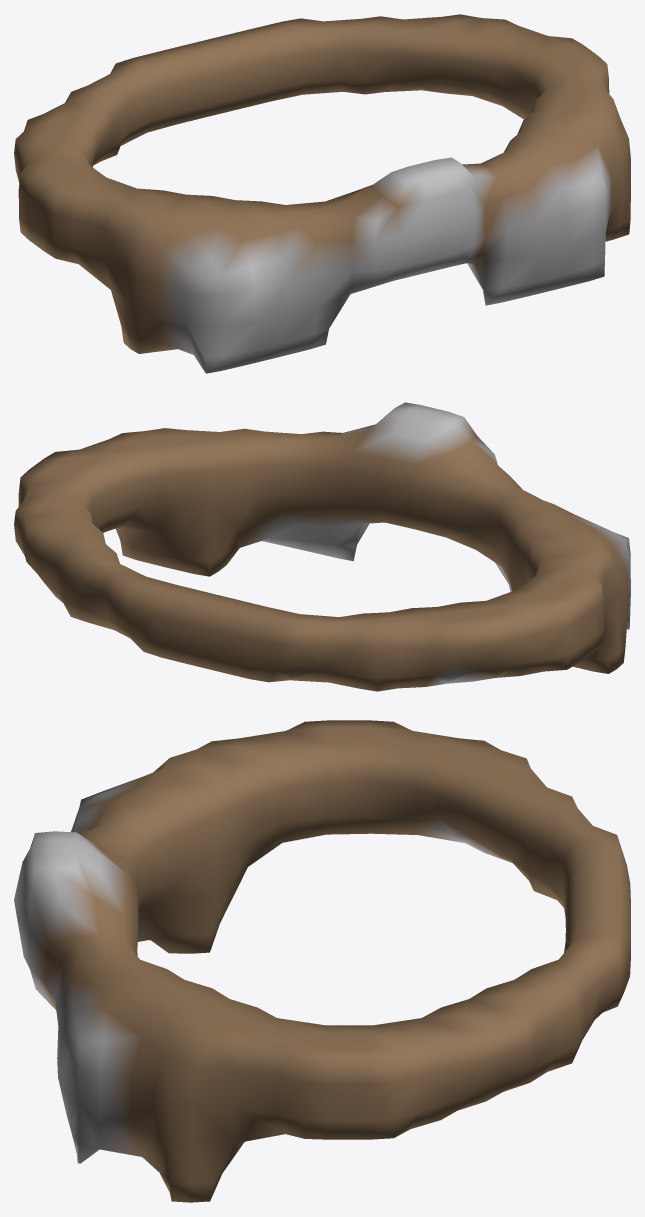
File: plate_common_belt_lod1.glb
3 views of the same model, one above another, from view 1: azimuth 30°, elevation 25°; view 2: azimuth 150°, elevation 25°; view 3: azimuth 270°, elevation 25° (orthographic). The views are drawn at different scales.
Parts seen in each view (by area): view 1: plate_common_belt_lod1; view 2: plate_common_belt_lod1; view 3: plate_common_belt_lod1.
Boxes of the visible parts, <box> form: plate_common_belt_lod1: <box>14,14,630,373</box>; plate_common_belt_lod1: <box>14,402,630,691</box>; plate_common_belt_lod1: <box>14,720,630,1202</box>.
Bounding box in the file's own units: 0.4319 × 0.1198 × 0.3269.
